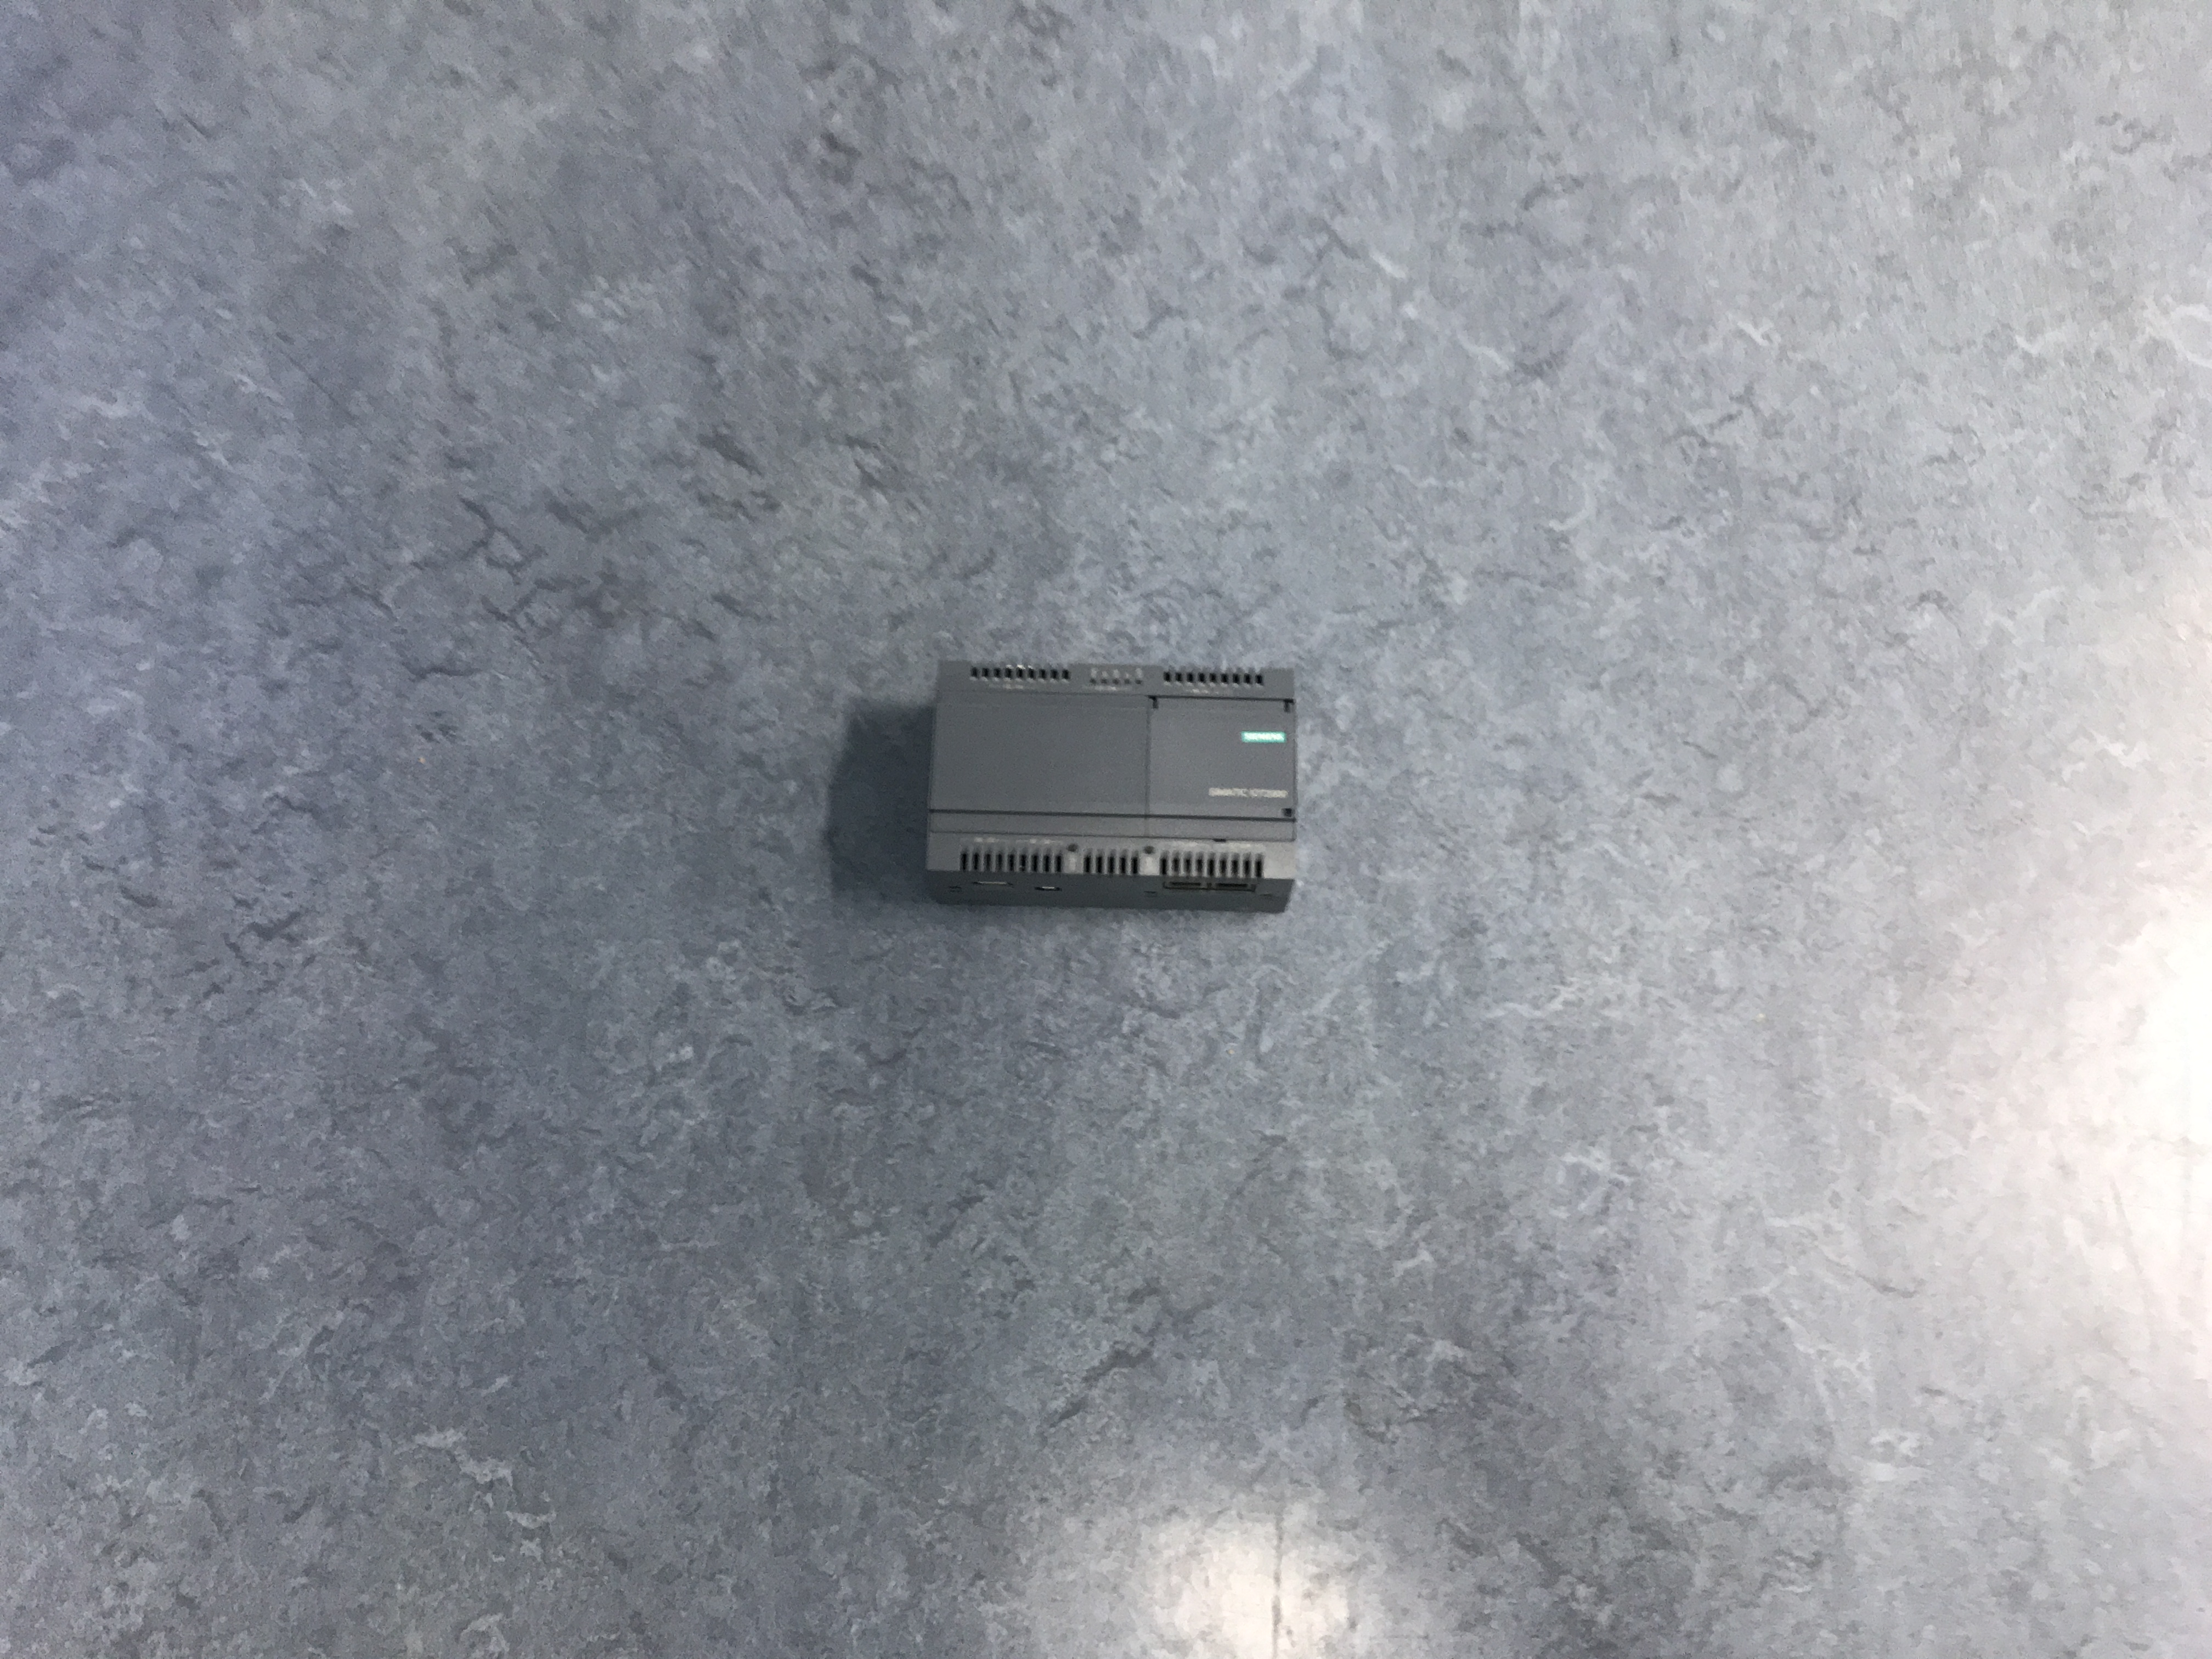device: (925, 660, 1298, 915)
